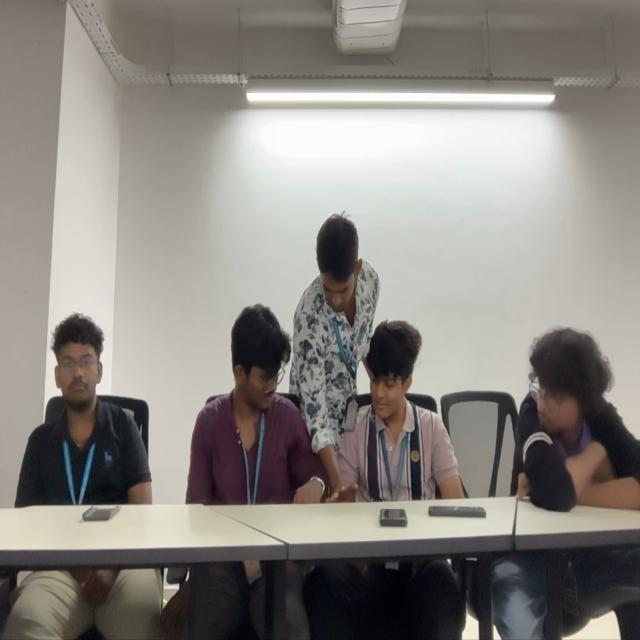Isolated: (515, 328, 640, 508), (26, 312, 145, 498)
socializing: (189, 215, 462, 499)
